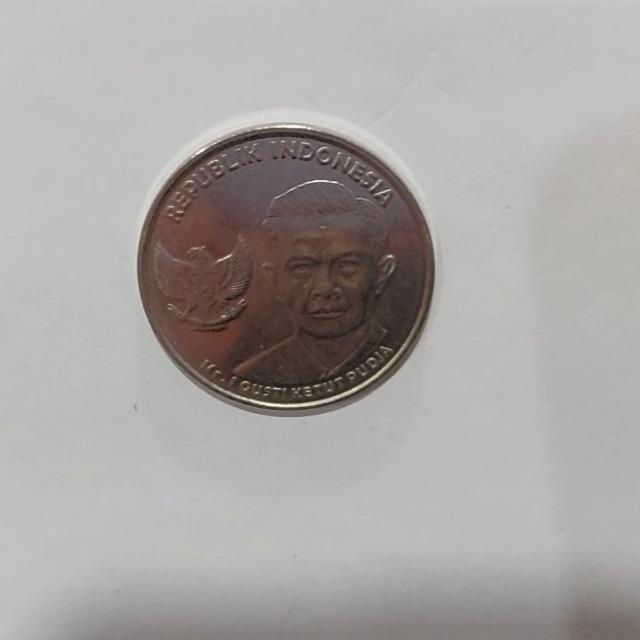Rp100: (135, 114, 437, 416), (202, 174, 401, 393)
